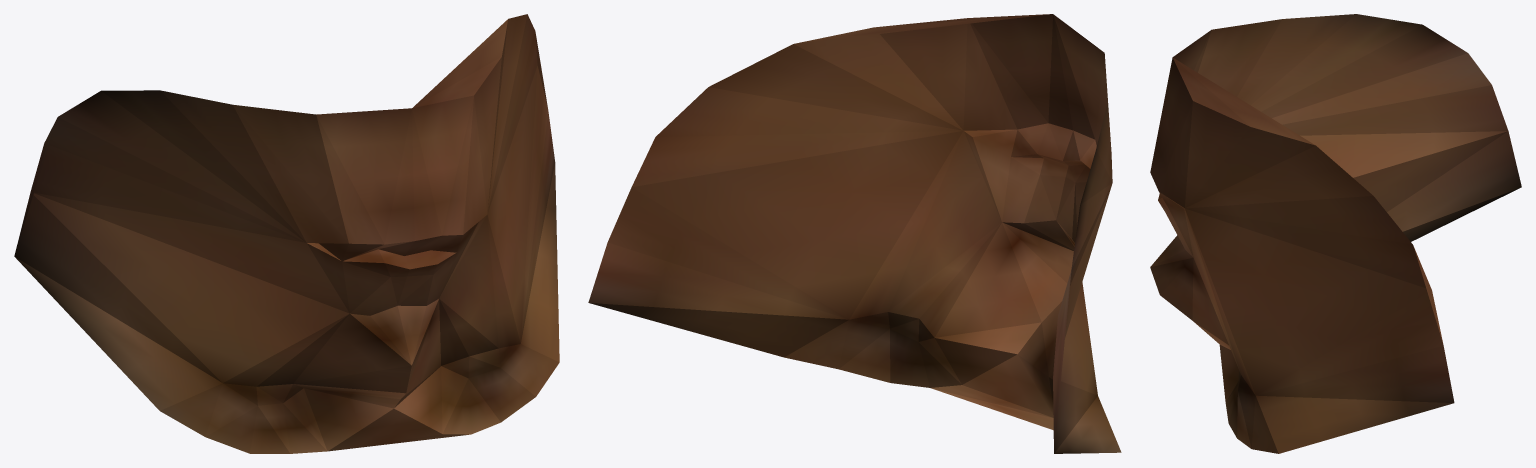
Rendered from real_39983.obj.
The picture shows the model from 3 angles, left to right: view 1: azimuth 30°, elevation 25°; view 2: azimuth 150°, elevation 25°; view 3: azimuth 270°, elevation 25°; orthographic projection. The views are drawn at different scales.
Size of the model in its own units: 116 by 82 by 84.43.
